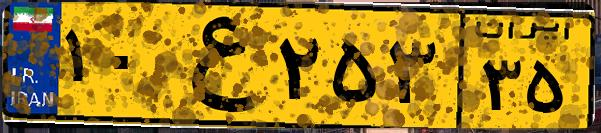0: (110, 28, 158, 98)
1: (57, 26, 110, 100)
2: (270, 28, 330, 110)
3: (385, 28, 445, 110), (475, 38, 525, 113)
5: (330, 28, 385, 110), (525, 38, 570, 115)
ع: (158, 12, 270, 120)
